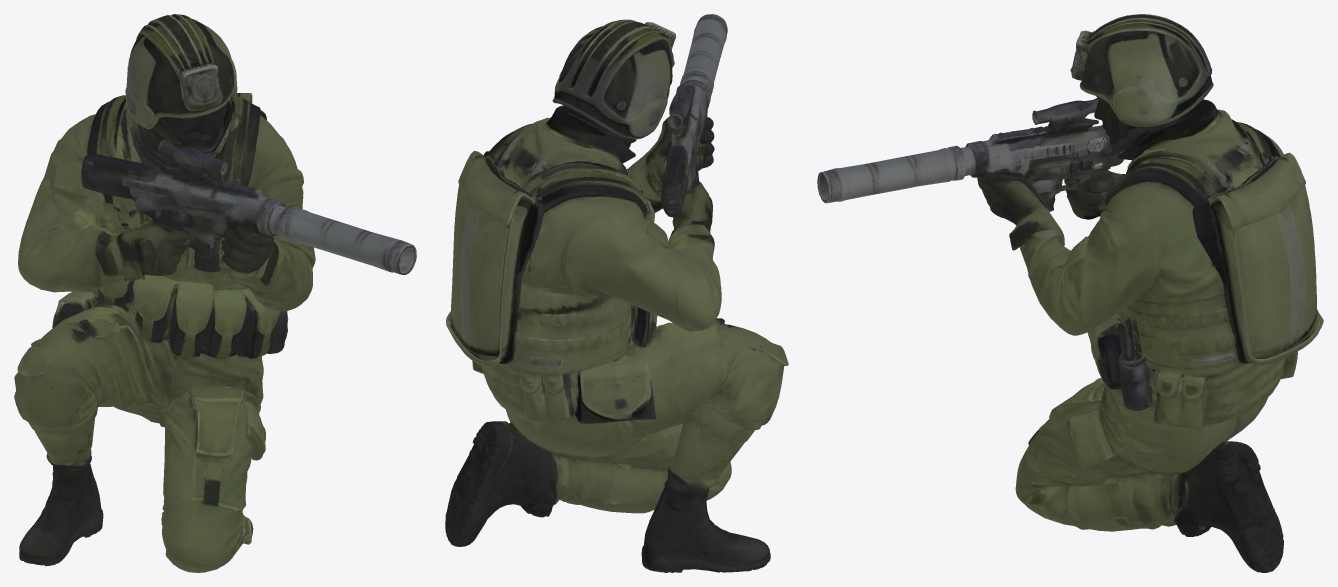
File: at_team.glb
The picture shows the model from 3 angles, left to right: view 1: azimuth 30°, elevation 25°; view 2: azimuth 150°, elevation 25°; view 3: azimuth 270°, elevation 25°; orthographic projection.
Size of the model in its own units: 1.13 by 1.9 by 1.72.
Materials: 1 (1 with a texture image).
